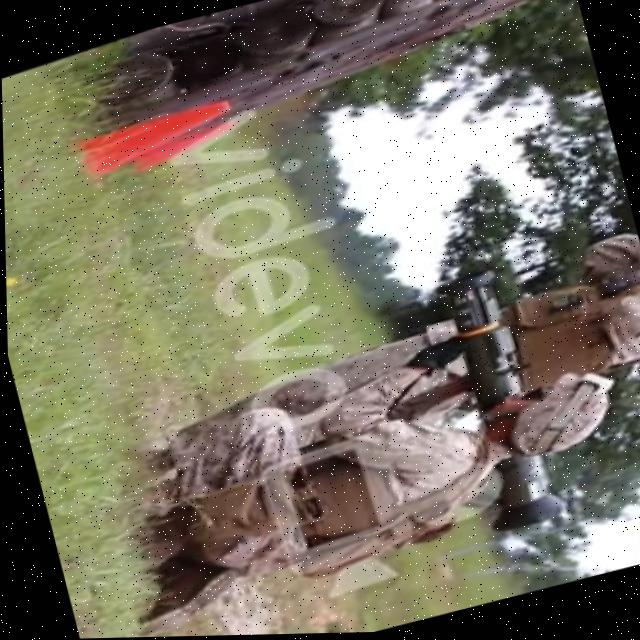rocket: (419, 267, 568, 540)
